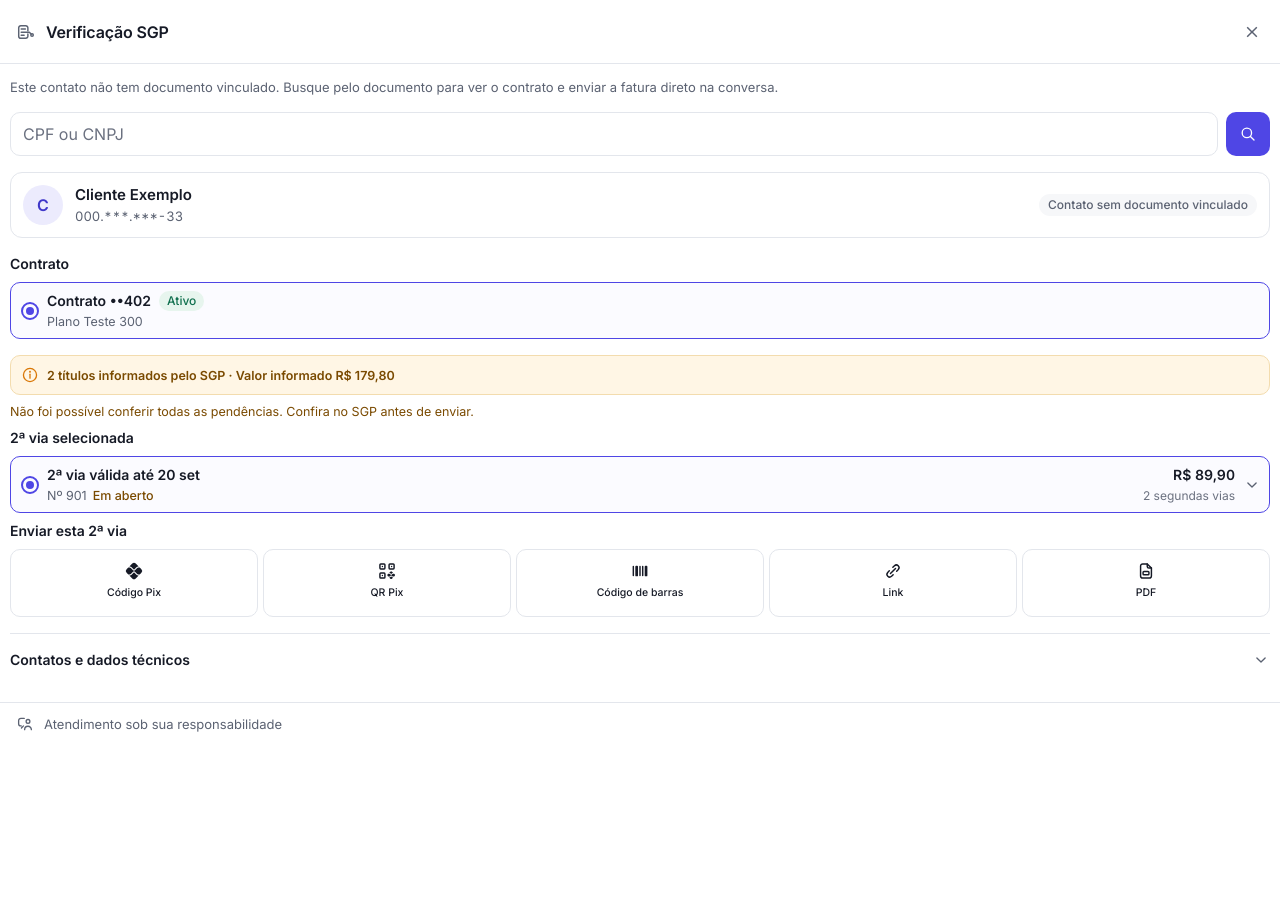
Test: envio ao cliente › falha com motivo do backend aparece traduzida
Click the button "Código Pix": x=134, y=583 [10,549,258,617]
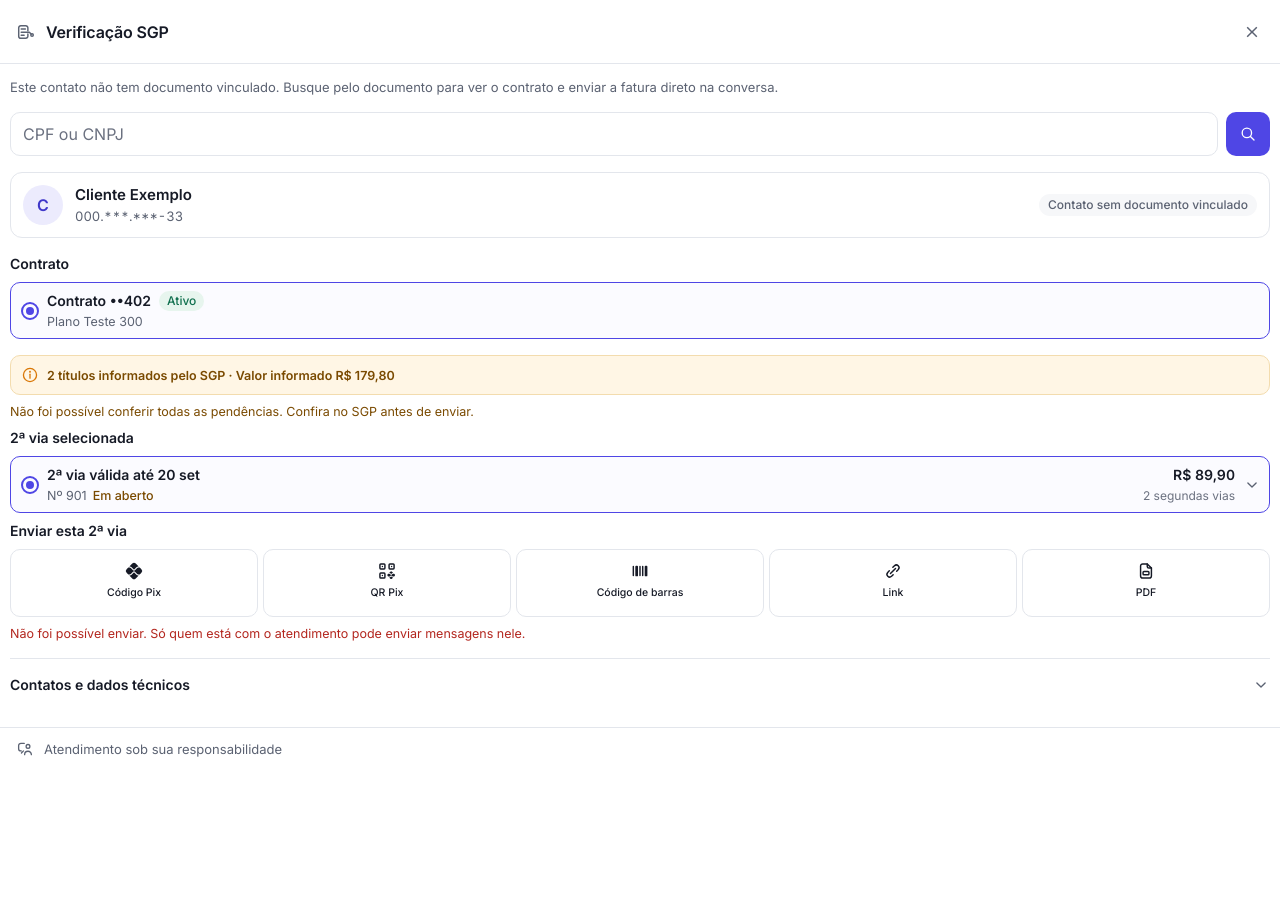
expect the 2nd message shows "Não foi possível enviar. Só quem está com o atendimento pode enviar mensagens nele.": met, box [10,626,526,641]
